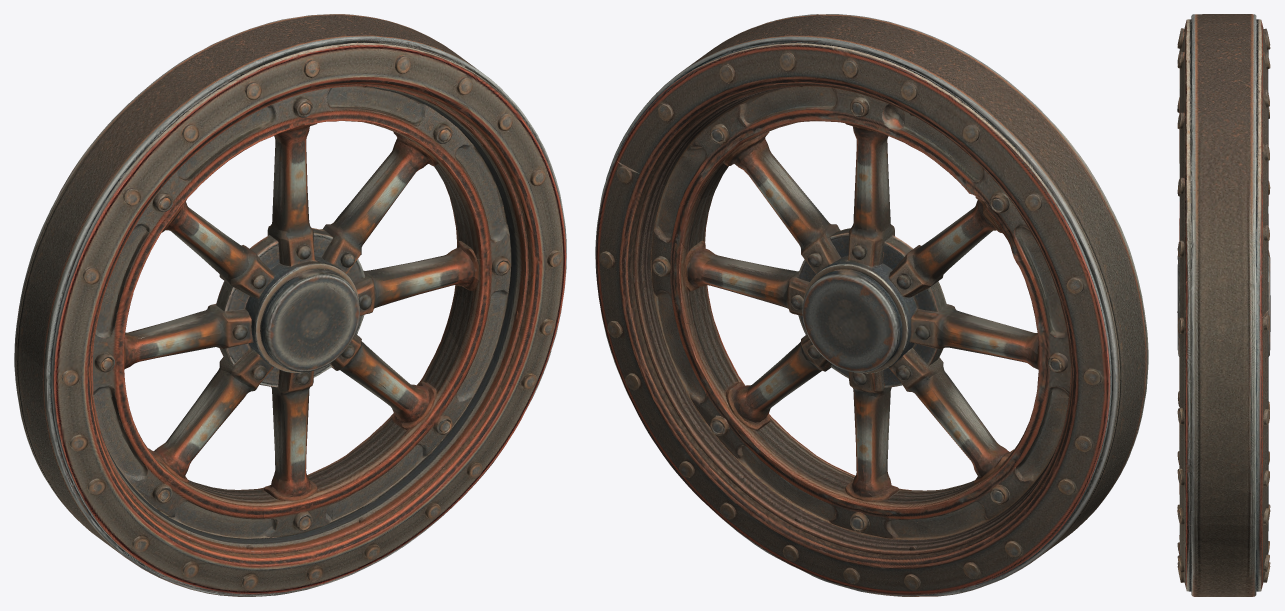
Rendered from headframe_sheave_wheel.glb.
3 renders of one model, left to right at view 1: azimuth 30°, elevation 25°; view 2: azimuth 150°, elevation 25°; view 3: azimuth 270°, elevation 25°, orthographic. The views are drawn at different scales.
Size of the model in its own units: 1.9 by 1.9 by 0.3044.
Materials: 1 (1 with a texture image).
